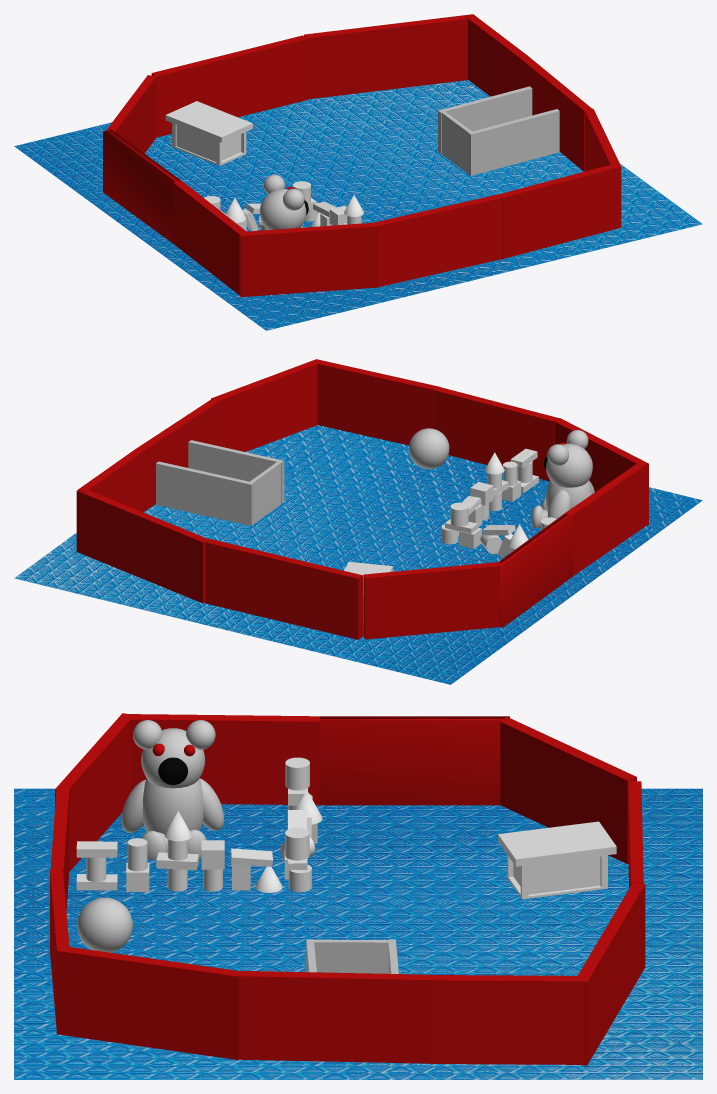
The model's file is level.fbx.
The picture shows the model from 3 angles, top to bottom: view 1: azimuth 30°, elevation 25°; view 2: azimuth 150°, elevation 25°; view 3: azimuth 270°, elevation 25°; orthographic projection. The views are drawn at different scales.
Visible parts, largest first — view 1: pPlane1, pasted__pasted__pasted__pasted__pasted__pasted__pasted__past (×4), pasted__pasted__pCube1 (×2), pasted__pCube1, pasted__pasted__pasted__pasted__pasted__pCube1, pasted__pasted__pasted__pasted__pasted__pasted__pCube1, pasted__pasted__pasted__pCube1, pasted__pasted__pasted__pasted__pCube1, pCube7, pCube1, pCube6, pSphere1 (+1 smaller); view 2: pPlane1, pasted__pasted__pasted__pasted__pasted__pasted__pasted__past (×4), pasted__pasted__pCube1 (×2), pasted__pCube1, pasted__pasted__pasted__pasted__pasted__pasted__pCube1, pasted__pasted__pasted__pCube1, pasted__pasted__pasted__pasted__pCube1, pCube6, pCube7, pasted__pasted__pasted__pasted__pasted__pCube1, pSphere1, pSphere11 (+3 smaller); view 3: pPlane1, pasted__pasted__pasted__pasted__pasted__pasted__pasted__past (×4), pasted__pasted__pasted__pCube1, pasted__pasted__pCube1 (×2), pasted__pasted__pasted__pasted__pCube1, pCube1, pasted__pCube1, pasted__pasted__pasted__pasted__pasted__pCube1, pSphere8, pCube17, pSphere11, pSphere1 (+14 smaller).
Boxes of the visible parts, bbox=[...] form: pPlane1: bbox=[14, 80, 702, 330]; pasted__pasted__pasted__pasted__pasted__pasted__pasted__past (×4): bbox=[465, 14, 621, 259]; pasted__pasted__pCube1 (×2): bbox=[106, 35, 307, 153]; pasted__pCube1: bbox=[304, 14, 471, 99]; pasted__pasted__pasted__pasted__pasted__pCube1: bbox=[239, 222, 379, 297]; pasted__pasted__pasted__pasted__pasted__pasted__pCube1: bbox=[374, 194, 501, 286]; pasted__pasted__pasted__pCube1: bbox=[103, 129, 180, 243]; pasted__pasted__pasted__pasted__pCube1: bbox=[173, 180, 246, 295]; pCube7: bbox=[468, 109, 559, 175]; pCube1: bbox=[165, 101, 252, 165]; pCube6: bbox=[438, 86, 532, 153]; pSphere1: bbox=[259, 189, 306, 229]; pPlane1: bbox=[14, 425, 702, 684]; pasted__pasted__pasted__pasted__pasted__pasted__pasted__past (×4): bbox=[77, 359, 439, 512]; pasted__pasted__pCube1 (×2): bbox=[205, 539, 502, 639]; pasted__pCube1: bbox=[76, 490, 208, 603]; pasted__pasted__pasted__pasted__pasted__pasted__pCube1: bbox=[435, 387, 558, 481]; pasted__pasted__pasted__pCube1: bbox=[499, 513, 573, 627]; pasted__pasted__pasted__pasted__pCube1: bbox=[564, 464, 645, 575]; pCube6: bbox=[156, 461, 254, 525]; pCube7: bbox=[188, 440, 284, 503]; pasted__pasted__pasted__pasted__pasted__pCube1: bbox=[553, 418, 648, 525]; pSphere1: bbox=[546, 443, 592, 487]; pSphere11: bbox=[408, 428, 449, 469]; pPlane1: bbox=[14, 788, 702, 1079]; pasted__pasted__pasted__pasted__pasted__pasted__pasted__past (×4): bbox=[50, 869, 585, 1064]; pasted__pasted__pasted__pCube1: bbox=[319, 716, 509, 805]; pasted__pasted__pCube1 (×2): bbox=[498, 717, 643, 888]; pasted__pasted__pasted__pasted__pCube1: bbox=[129, 714, 319, 805]; pCube1: bbox=[498, 821, 616, 899]; pasted__pCube1: bbox=[577, 882, 645, 1065]; pasted__pasted__pasted__pasted__pasted__pCube1: bbox=[55, 713, 134, 871]; pSphere8: bbox=[142, 778, 203, 834]; pCube17: bbox=[314, 939, 388, 973]; pSphere11: bbox=[77, 897, 132, 952]; pSphere1: bbox=[141, 728, 205, 788].
Bounding box in the file's own units: 26.5 × 5.49 × 26.5.
